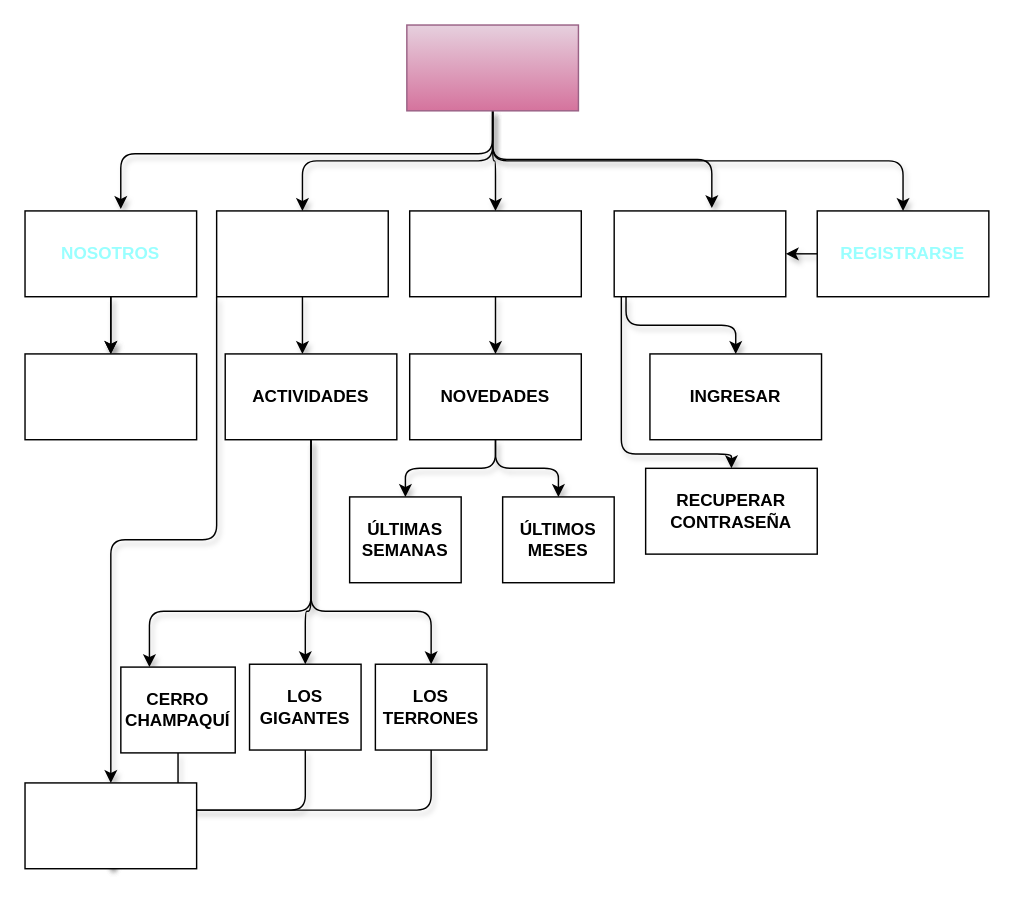
Some shapes in this 1014 by 915 pixel diagram are drawn without their labels. Here are the shapes that lost their labels. From the top down, the centre of each, then its label:
the point at 491,67: HOME
the point at 301,253: RECORRIDOS
the point at 494,253: BLOG
the point at 699,253: INICIAR SESIÓN
the point at 110,396: NUESTRA HISTORIA
the point at 110,825: RESERVAS
